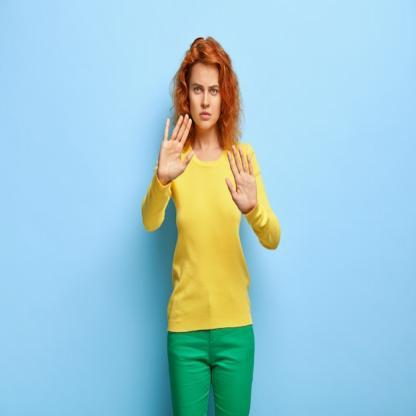stop: (224, 140, 260, 218), (159, 107, 196, 182)
